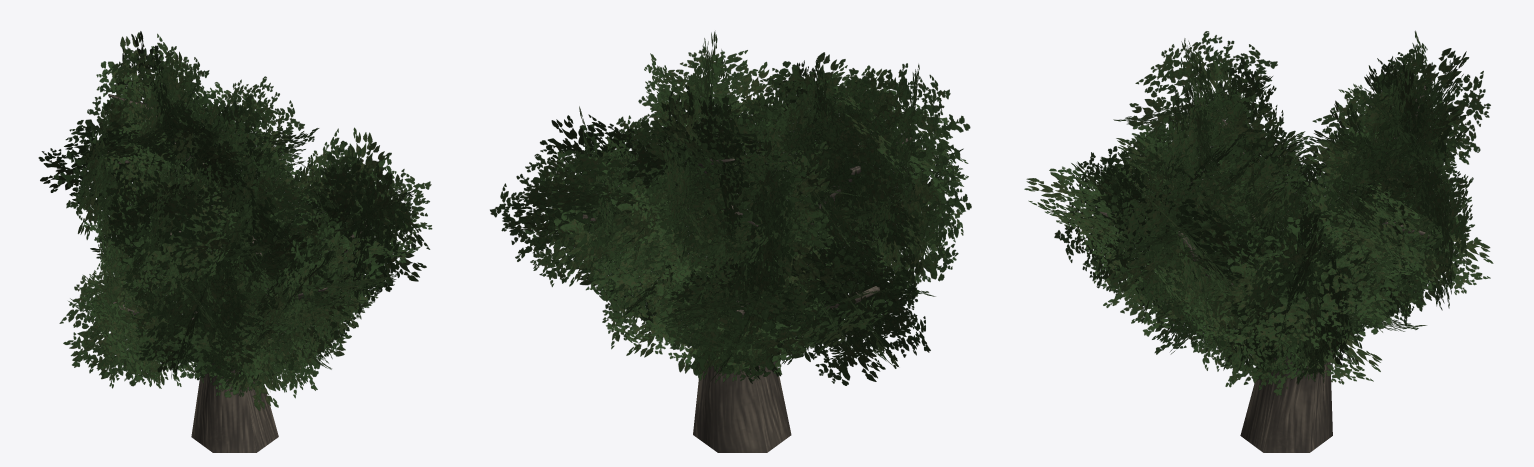
The model's file is tree02.glb.
3 renders of one model, left to right at view 1: azimuth 30°, elevation 25°; view 2: azimuth 150°, elevation 25°; view 3: azimuth 270°, elevation 25°, orthographic. The views are drawn at different scales.
Visible parts, largest first — view 1: Cylinder; view 2: Cylinder; view 3: Cylinder.
Part boxes in pixels (x1,y1,x2,y2): Cylinder: (38,31,432,452); Cylinder: (490,31,971,452); Cylinder: (1024,30,1493,452).
Bounding box in the file's own units: 10.12 × 9.92 × 11.23.
Materials: 2 (2 with a texture image).
